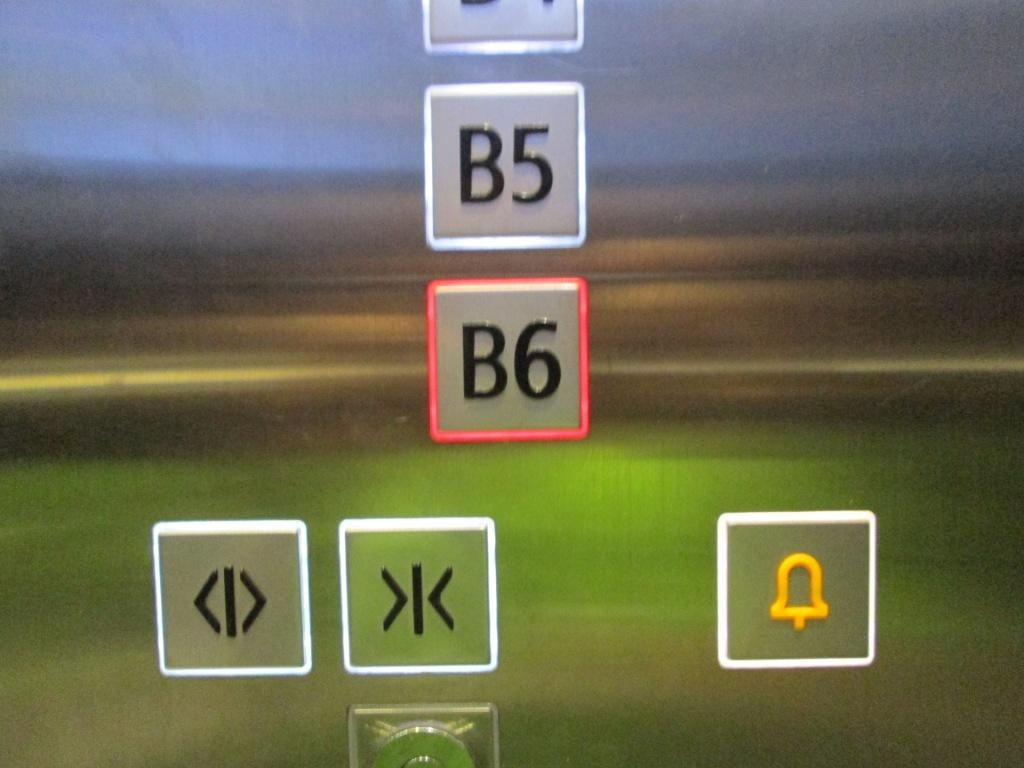B5: (417, 74, 594, 255)
B6: (414, 269, 594, 449)
alarm: (711, 506, 881, 675)
close: (334, 511, 501, 679)
open: (150, 515, 315, 682)
